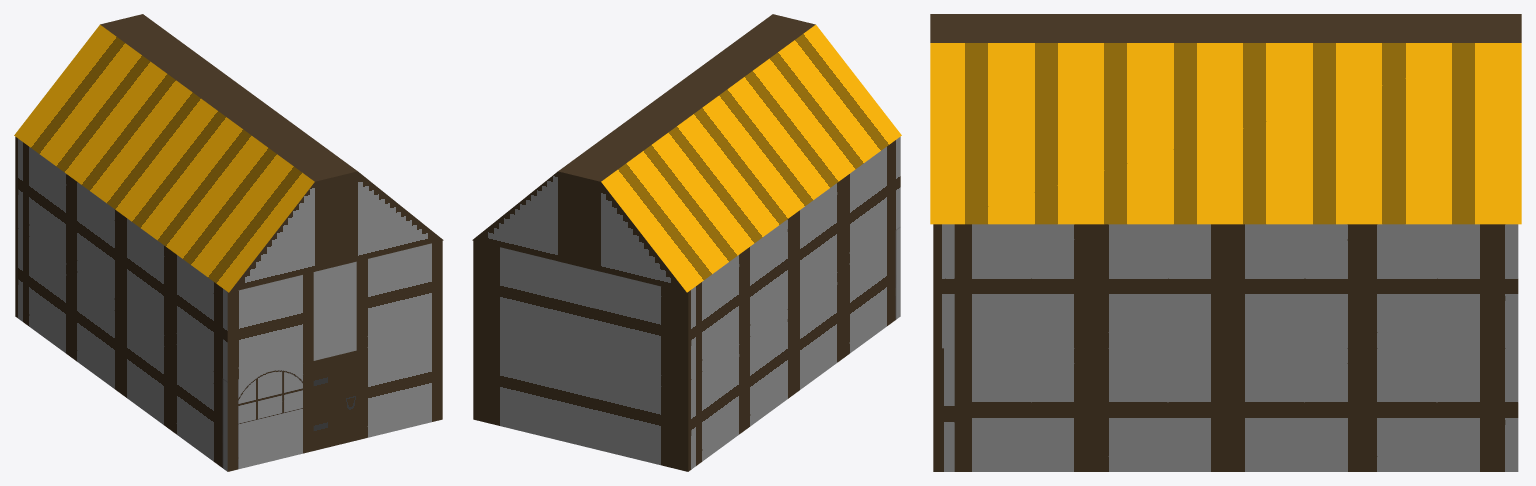
File: Maison.fbx
3 views of the same model, side by side, from view 1: azimuth 30°, elevation 25°; view 2: azimuth 150°, elevation 25°; view 3: azimuth 270°, elevation 25° (orthographic). The views are drawn at different scales.
Parts seen in each view (by area): view 1: RoofTriangle, Roof Rectangle, cube, cube_20, cube_21, cube_19, cube_2, cube_14, cube_1, cube_13, cube_4, cube_16 (+7 smaller); view 2: RoofTriangle, cube_18, cube_17, Roof Rectangle, cube_2, cube_14, cube_1, cube_3, cube_13, cube_15, cube_4, cube_16 (+3 smaller); view 3: RoofTriangle_1, cube_12, Roof Rectangle, cube_11, cube_9, cube_5, cube_6, cube_7, cube_10, cube_8, cube_19, cube_17 (+2 smaller).
Boxes of the visible parts, x1,y1,x2,y2 form: RoofTriangle: (14,25,314,292); Roof Rectangle: (100,14,357,271); cube: (220,361,313,471); cube_20: (220,272,313,381); cube_21: (356,329,442,440); cube_19: (356,240,442,350); cube_2: (120,304,170,429); cube_14: (120,214,170,339); cube_1: (170,340,219,465); cube_13: (170,250,219,375); cube_4: (23,232,72,357); cube_16: (23,142,72,267); RoofTriangle: (601,25,901,292); cube_18: (473,329,695,471); cube_17: (473,240,695,381); Roof Rectangle: (558,14,815,271); cube_2: (793,269,843,394); cube_14: (793,179,843,304); cube_1: (843,232,892,357); cube_3: (744,305,793,430); cube_13: (843,142,892,267); cube_15: (744,215,793,340); cube_4: (696,341,743,465); cube_16: (696,251,743,375); RoofTriangle_1: (930,43,1521,224); cube_12: (954,224,1091,348); Roof Rectangle: (930,14,1521,42); cube_11: (1091,224,1227,348); cube_9: (1360,224,1496,348); cube_5: (954,348,1091,471); cube_6: (1091,348,1227,471); cube_7: (1228,348,1364,471); cube_10: (1228,224,1364,348); cube_8: (1360,348,1496,471); cube_19: (933,224,954,348); cube_17: (1497,224,1518,348).
Bounding box in the file's own units: 500 × 600 × 866.
Materials: 4 (4 with a texture image).
